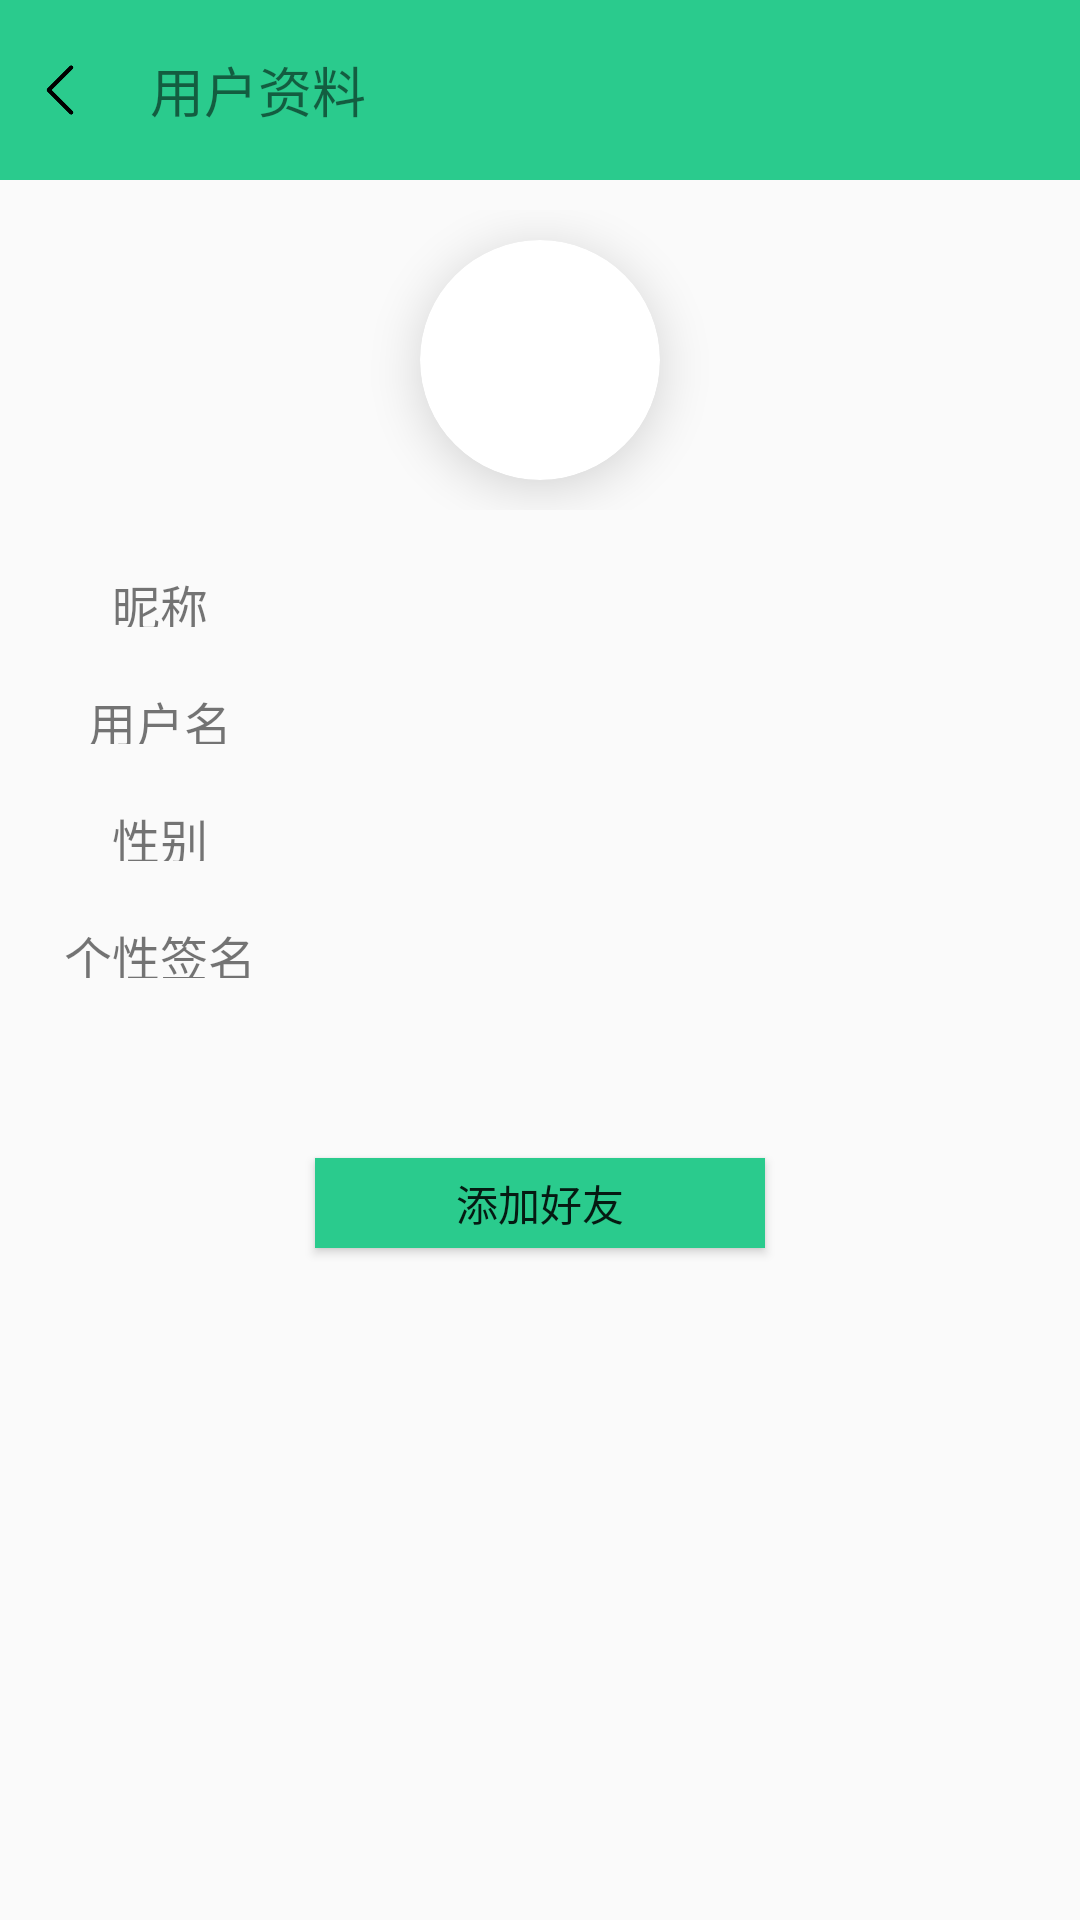

Point at icon controls on the screen. Image size 1080 x 1920, points as (x=x, y=y).
arrow left: (x=60, y=90)
